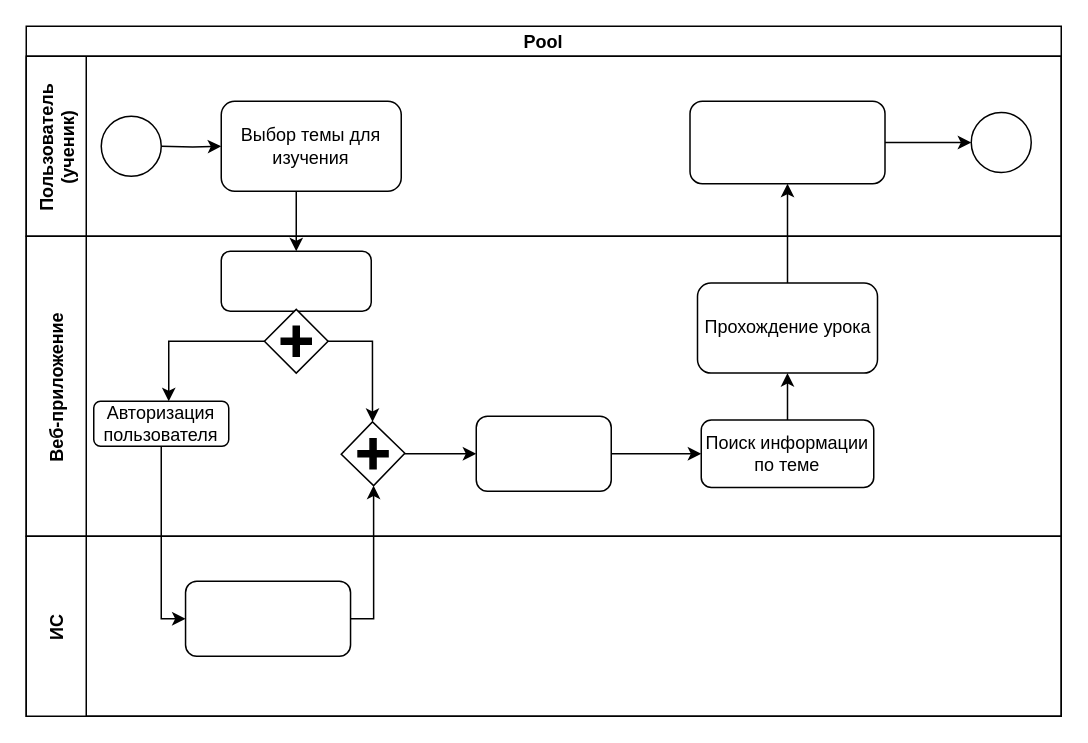
The diagram is 1088 pixels wide and 743 high, and some of its shapes have lost their labels. The shapes that lost their labels are listed below. From the top down, each one's centre as x and y in pixels, then its label:
At [786,142]: "Получение новых знаний / закрепление материла".
At [295,280]: "Отслеживать прогресс?".
At [543,453]: "Выбор раздела или заданий".
At [267,618]: "Прогресс (Запись о прохождении)".
